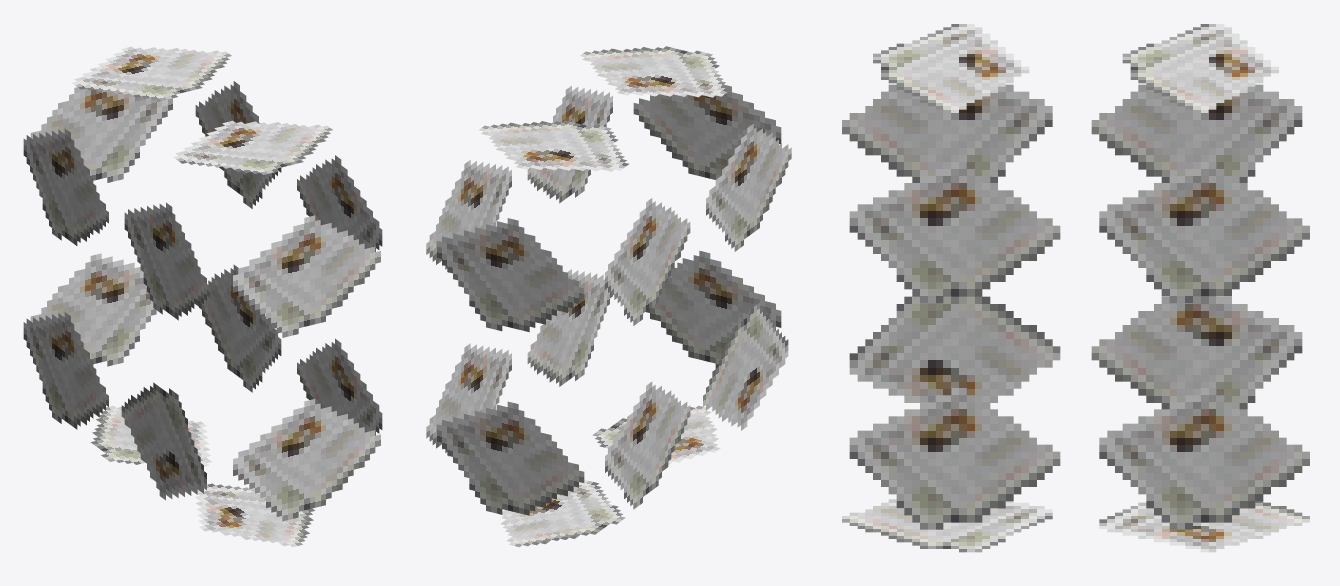
File: ConstructionCube2by2.fbx
The picture shows the model from 3 angles, left to right: view 1: azimuth 30°, elevation 25°; view 2: azimuth 150°, elevation 25°; view 3: azimuth 270°, elevation 25°; orthographic projection. The views are drawn at different scales.
Parts seen in each view (by area): view 1: Cube.001; view 2: Cube.001; view 3: Cube.001.
Boxes of the visible parts, x1=… form: Cube.001: x1=23, y1=46, x2=382, y2=547; Cube.001: x1=426, y1=46, x2=791, y2=547; Cube.001: x1=842, y1=24, x2=1309, y2=552.
Bounding box in the file's own units: 200 × 400 × 400.
